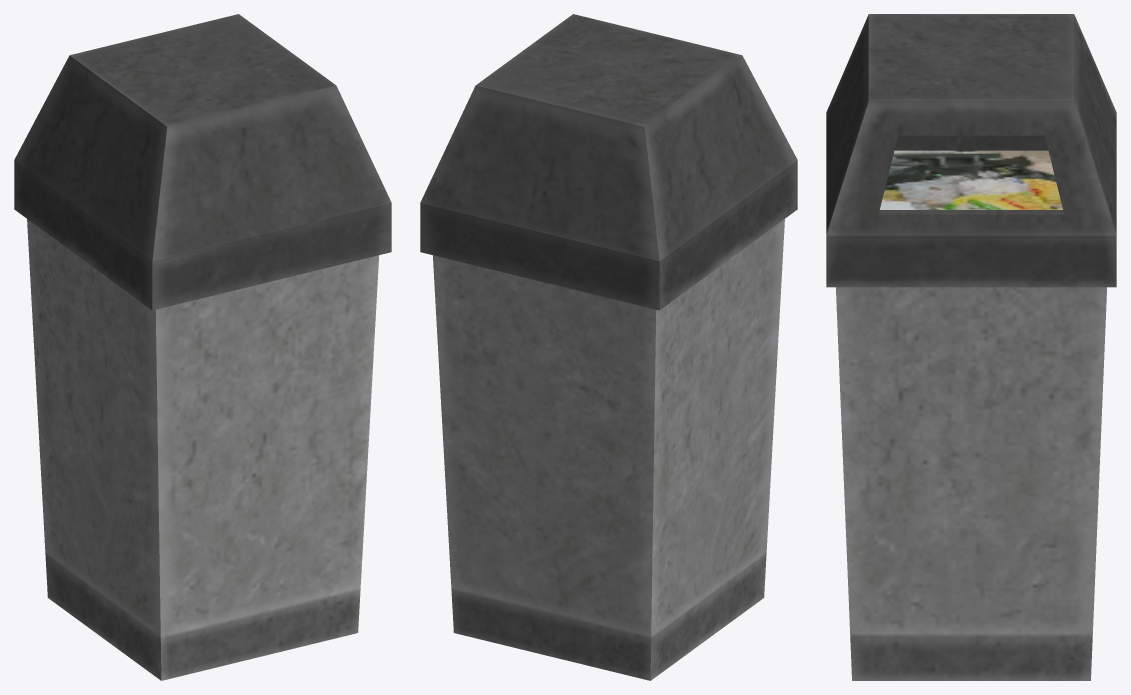
Rendered from Trash_Can.fbx.
3 views of the same model, side by side, from view 1: azimuth 30°, elevation 25°; view 2: azimuth 150°, elevation 25°; view 3: azimuth 270°, elevation 25° (orthographic). The views are drawn at different scales.
Visible parts, largest first — view 1: Trash_Can; view 2: Trash_Can; view 3: Trash_Can.
Part boxes in pixels (left/top/right/bottom): Trash_Can: left=14, top=14, right=391, bottom=680; Trash_Can: left=420, top=14, right=797, bottom=680; Trash_Can: left=826, top=14, right=1116, bottom=680.
Size of the model in its own units: 65.97 by 144 by 65.97.
